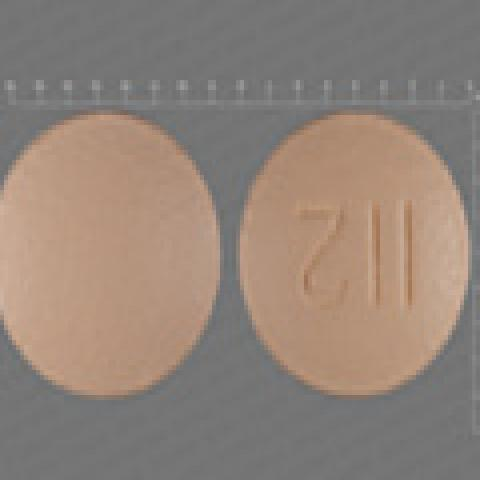Pill: (0, 88, 235, 411), (229, 110, 472, 408)
